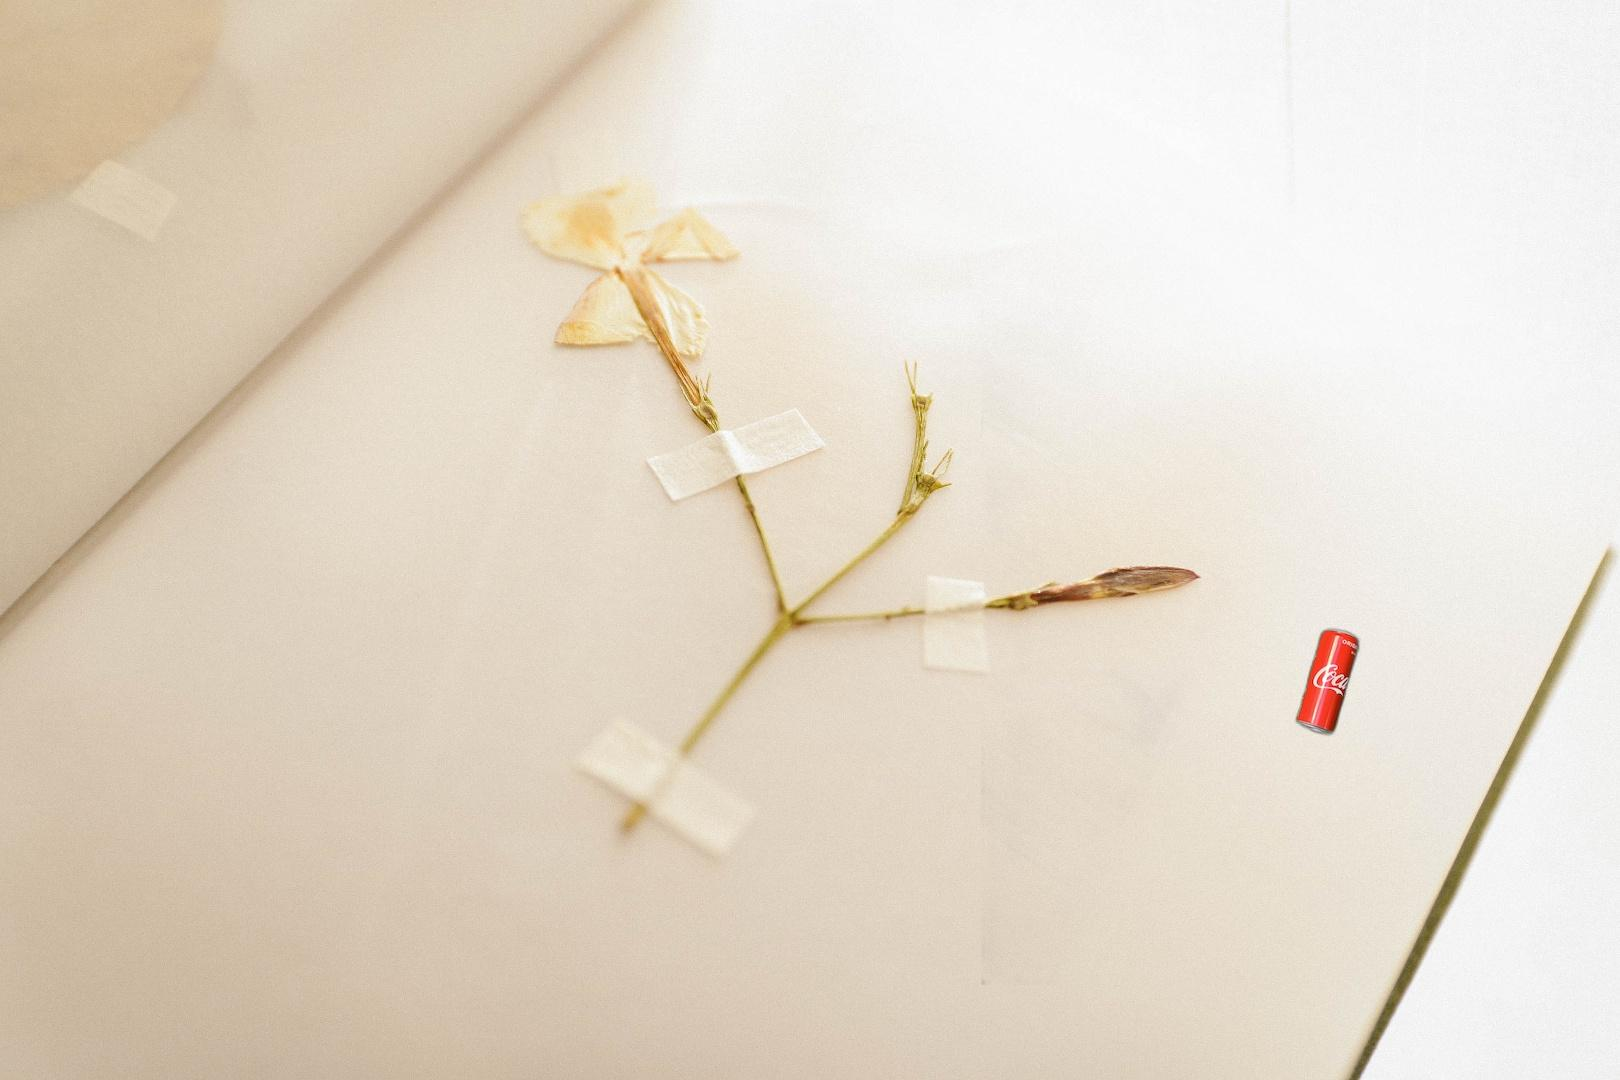metal-cans: (981, 303, 1364, 985)
